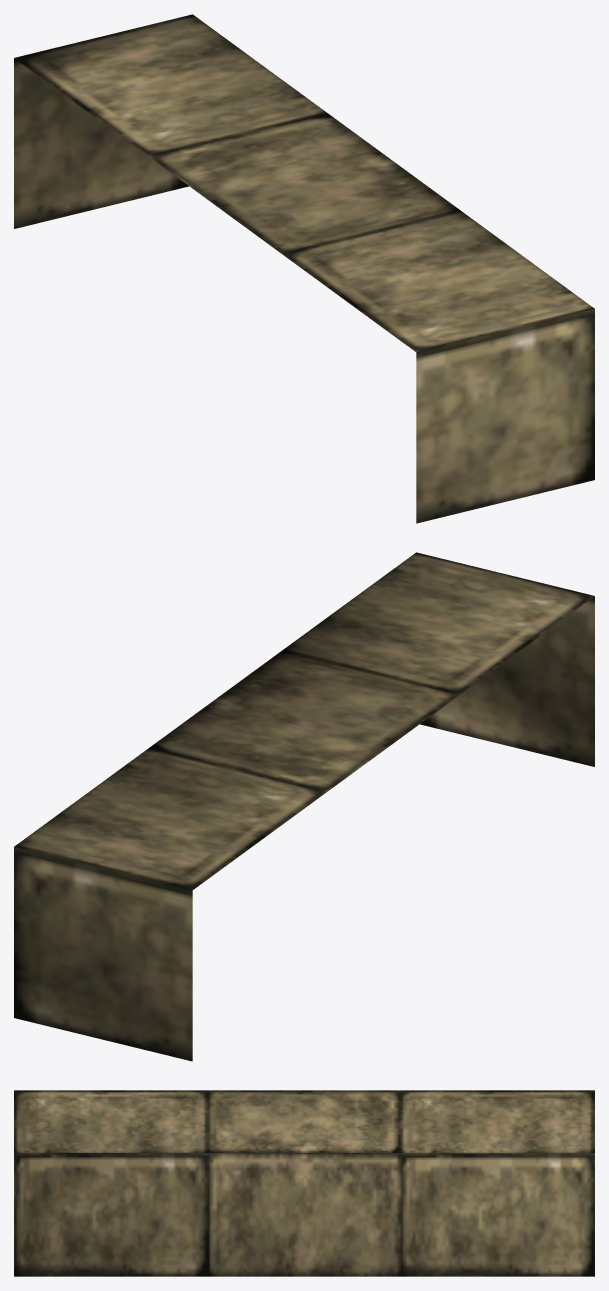
Rendered from OVERHILL_A_01_OBJECT106.fbx.
3 views of the same model, one above another, from view 1: azimuth 30°, elevation 25°; view 2: azimuth 150°, elevation 25°; view 3: azimuth 270°, elevation 25° (orthographic). The views are drawn at different scales.
Parts seen in each view (by area): view 1: OVERHILL_A_01_OBJECT106; view 2: OVERHILL_A_01_OBJECT106; view 3: OVERHILL_A_01_OBJECT106.
Part boxes in pixels (<box>): OVERHILL_A_01_OBJECT106: <box>14,14,594,523</box>; OVERHILL_A_01_OBJECT106: <box>14,552,594,1061</box>; OVERHILL_A_01_OBJECT106: <box>14,1090,594,1276</box>.
Bounding box in the file's own units: 8373 × 7663 × 32635.
Materials: 1 (1 with a texture image).
